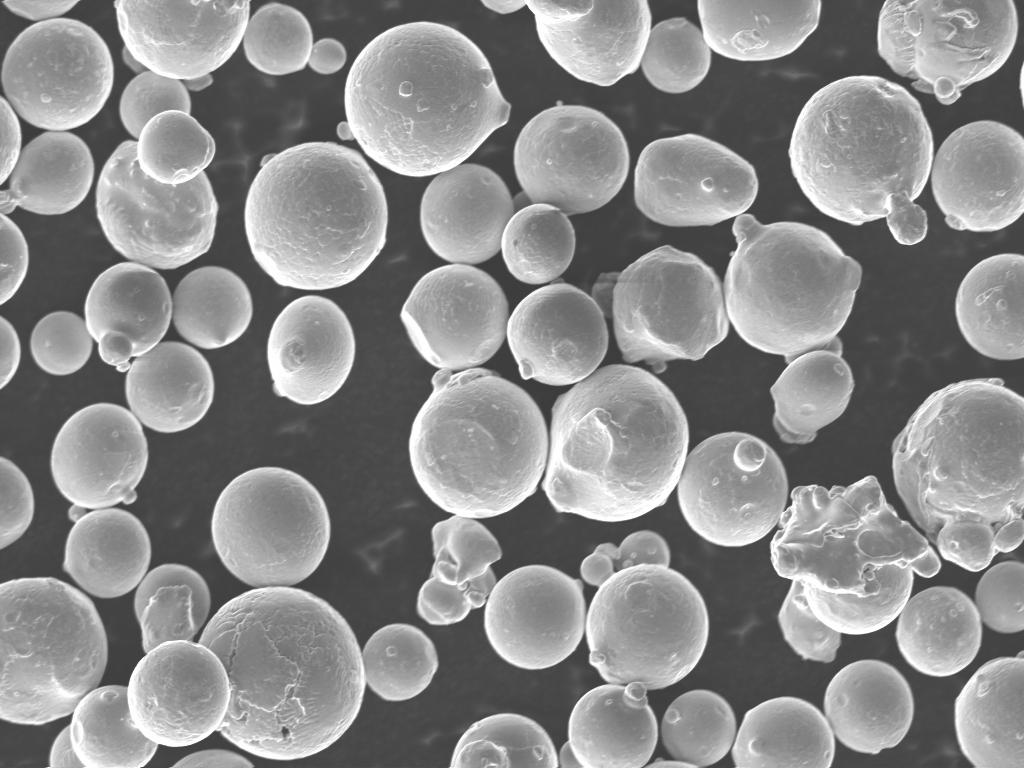Powder: (126, 586, 366, 760), (770, 476, 940, 661), (338, 22, 510, 175), (892, 378, 1024, 571), (790, 76, 934, 245), (544, 364, 688, 522), (246, 142, 388, 290), (580, 530, 708, 690), (412, 368, 548, 518), (724, 214, 862, 355), (96, 110, 218, 269), (420, 164, 576, 283), (116, 0, 249, 137), (592, 246, 730, 372), (0, 578, 108, 724), (878, 0, 1018, 104), (482, 0, 652, 85), (212, 468, 330, 588), (514, 106, 630, 215), (2, 18, 114, 130), (678, 432, 788, 546), (50, 402, 148, 519), (634, 134, 758, 226), (402, 264, 508, 369), (484, 566, 586, 669), (506, 284, 608, 386), (932, 120, 1024, 231), (84, 262, 172, 371), (416, 516, 502, 625), (268, 296, 354, 404), (824, 660, 914, 753), (126, 342, 214, 432), (64, 508, 152, 598), (770, 350, 854, 444), (896, 586, 982, 676), (568, 682, 658, 768), (0, 132, 94, 214), (954, 658, 1024, 766), (244, 2, 346, 75), (732, 696, 836, 767), (70, 686, 158, 768), (956, 254, 1024, 360), (134, 564, 210, 652), (172, 266, 252, 349), (362, 624, 438, 700), (452, 714, 558, 768), (662, 690, 736, 766), (642, 18, 712, 94), (30, 312, 92, 376), (976, 560, 1024, 633), (0, 456, 34, 547), (0, 214, 28, 303), (0, 96, 22, 183), (2, 1, 78, 21), (174, 750, 254, 768), (0, 316, 20, 387), (50, 726, 84, 767), (646, 758, 698, 768)
